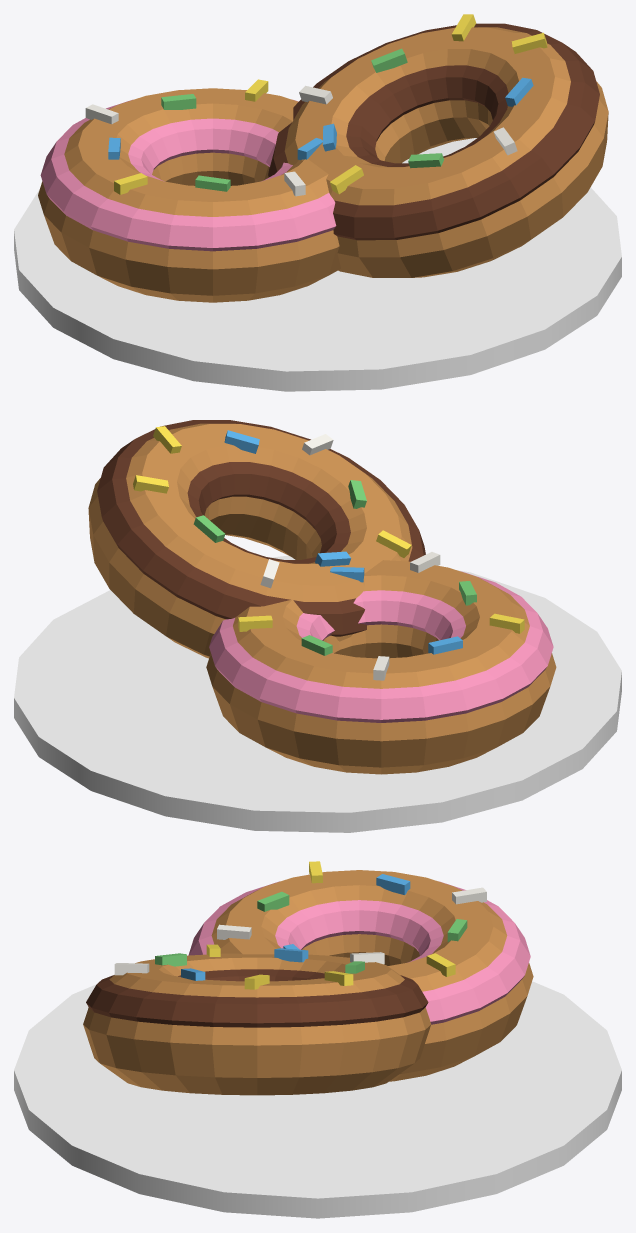
The model's file is Bakery_L6.fbx.
3 renders of one model, top to bottom at view 1: azimuth 30°, elevation 25°; view 2: azimuth 150°, elevation 25°; view 3: azimuth 270°, elevation 25°, orthographic.
Parts seen in each view (by area): view 1: B6_Plate, B6_Donut2, B6_Donut1, B6_Icing2, B6_Icing1, B6_Sprinkle; view 2: B6_Plate, B6_Donut1, B6_Donut2, B6_Icing1, B6_Icing2; view 3: B6_Plate, B6_Donut2, B6_Donut1, B6_Icing2, B6_Icing1, B6_Sprinkle.
Boxes of the visible parts, <box> form: B6_Plate: <box>14,138,621,391</box>; B6_Donut2: <box>284,27,608,277</box>; B6_Donut1: <box>38,88,340,302</box>; B6_Icing2: <box>268,23,599,240</box>; B6_Icing1: <box>40,99,336,251</box>; B6_Sprinkle: <box>371,48,407,72</box>; B6_Plate: <box>14,556,621,832</box>; B6_Donut1: <box>206,560,556,774</box>; B6_Donut2: <box>88,423,412,658</box>; B6_Icing1: <box>209,571,553,722</box>; B6_Icing2: <box>97,420,425,636</box>; B6_Plate: <box>14,981,621,1218</box>; B6_Donut2: <box>83,953,431,1095</box>; B6_Donut1: <box>211,870,533,1081</box>; B6_Icing2: <box>86,969,428,1027</box>; B6_Icing1: <box>188,881,530,1024</box>; B6_Sprinkle: <box>376,874,410,894</box>.
Size of the model in its own units: 22 by 8.2 by 22.
